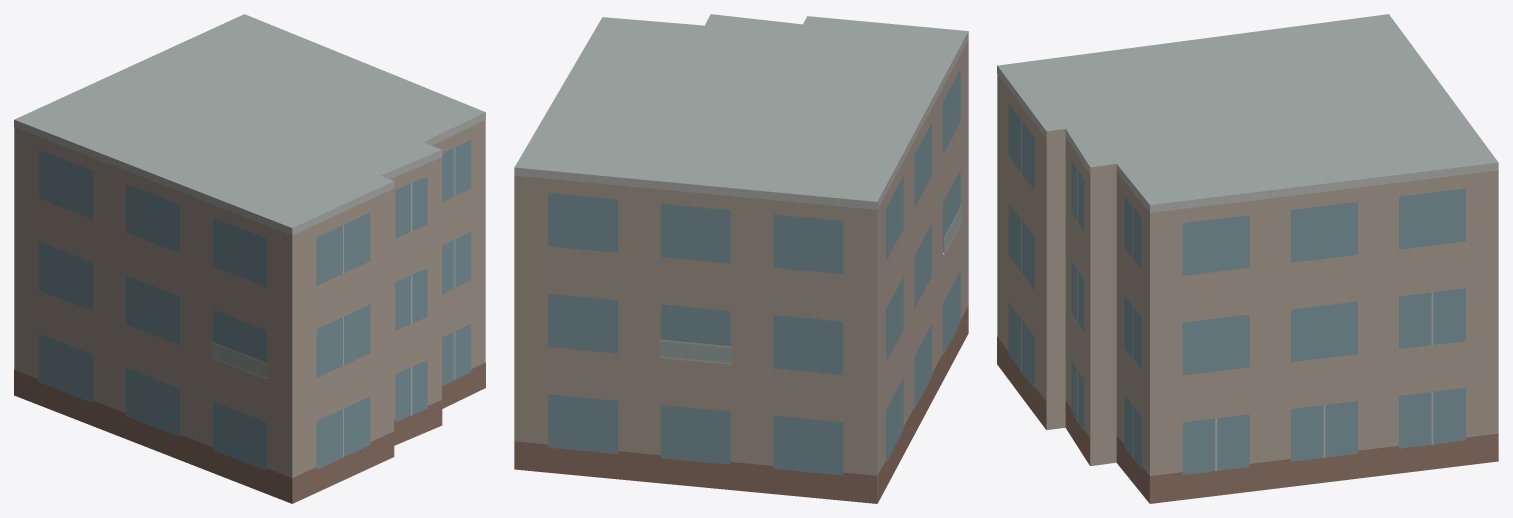
File: survey-upis-32675595.glb
3 views of the same model, side by side, from view 1: azimuth 30°, elevation 25°; view 2: azimuth 150°, elevation 25°; view 3: azimuth 270°, elevation 25° (orthographic). The views are drawn at different scales.
Parts seen in each view (by area): view 1: survey-upis-32675595.tmp; view 2: survey-upis-32675595.tmp; view 3: survey-upis-32675595.tmp.
Part boxes in pixels (x1,y1,x2,y2): survey-upis-32675595.tmp: (14, 14, 485, 503); survey-upis-32675595.tmp: (514, 14, 968, 503); survey-upis-32675595.tmp: (997, 14, 1498, 503).
Size of the model in its own units: 12.56 by 9.15 by 13.93.
